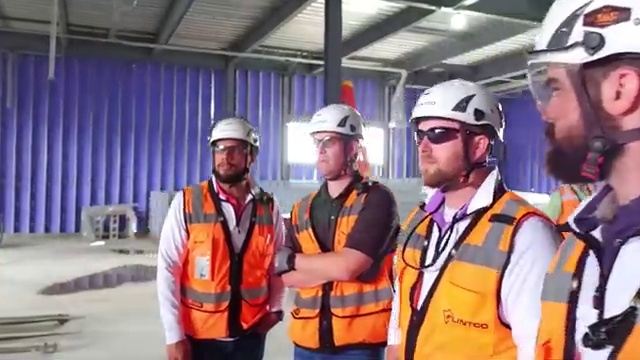helmet: (521, 1, 640, 64), (400, 82, 523, 140), (302, 100, 370, 144), (206, 112, 264, 145)
jacket: (396, 186, 545, 360), (175, 176, 277, 345), (290, 181, 388, 353), (536, 215, 640, 360)
